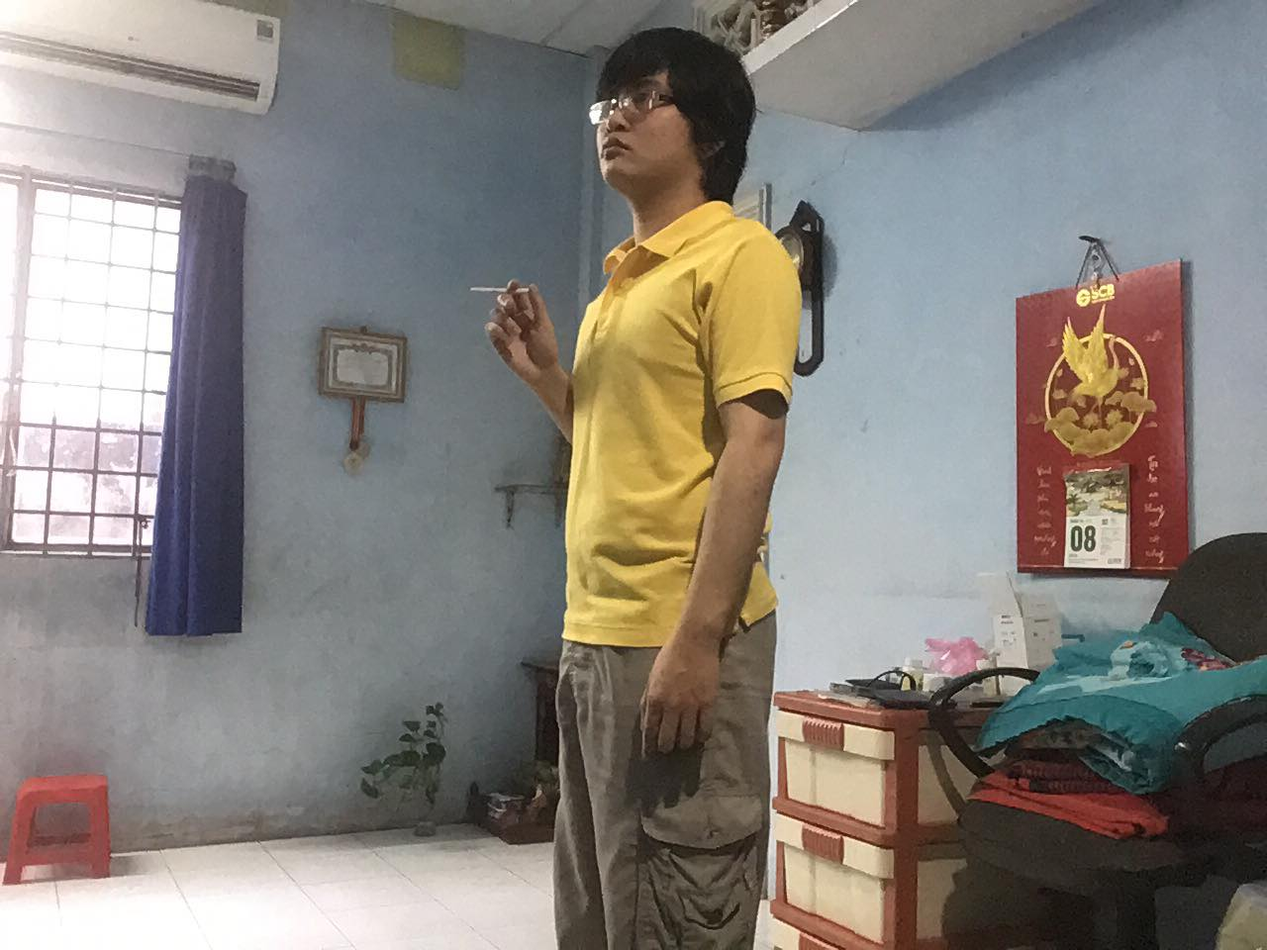cigarette: (466, 281, 508, 297)
person: (479, 36, 811, 929)
